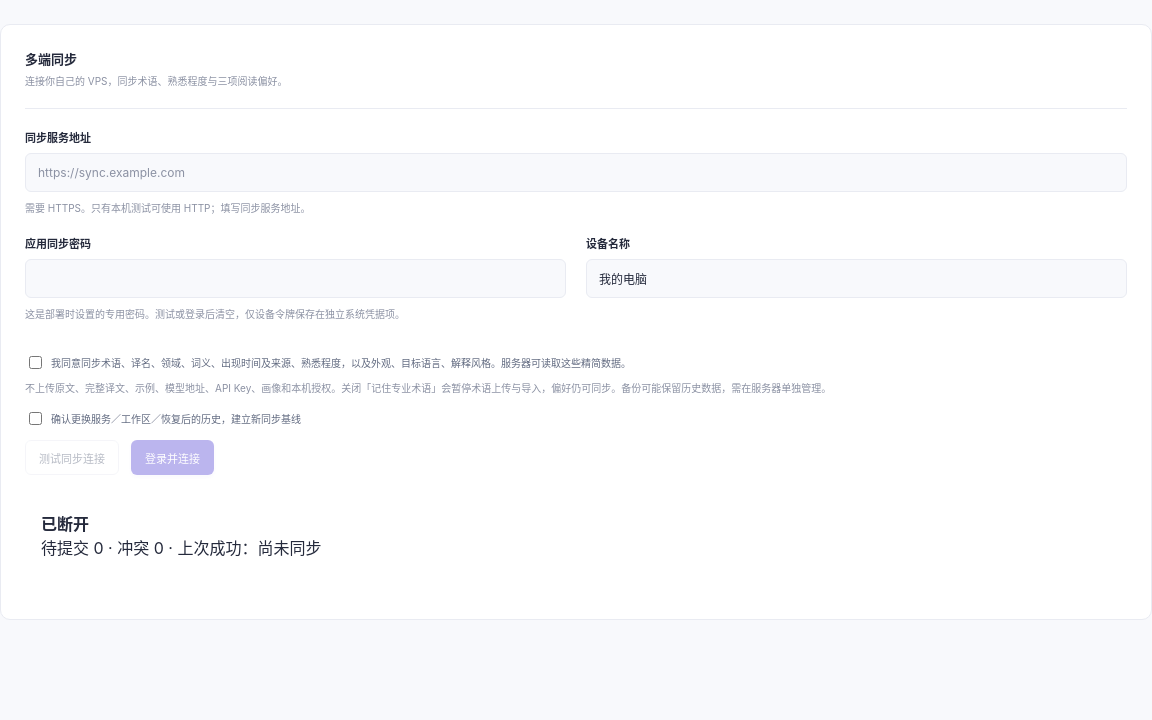
Test: preserves edited server address when another window changes the connection
Type "https://draft.example.com" into the field with id "sync-url" at [576, 172], box [25,153,1127,192]
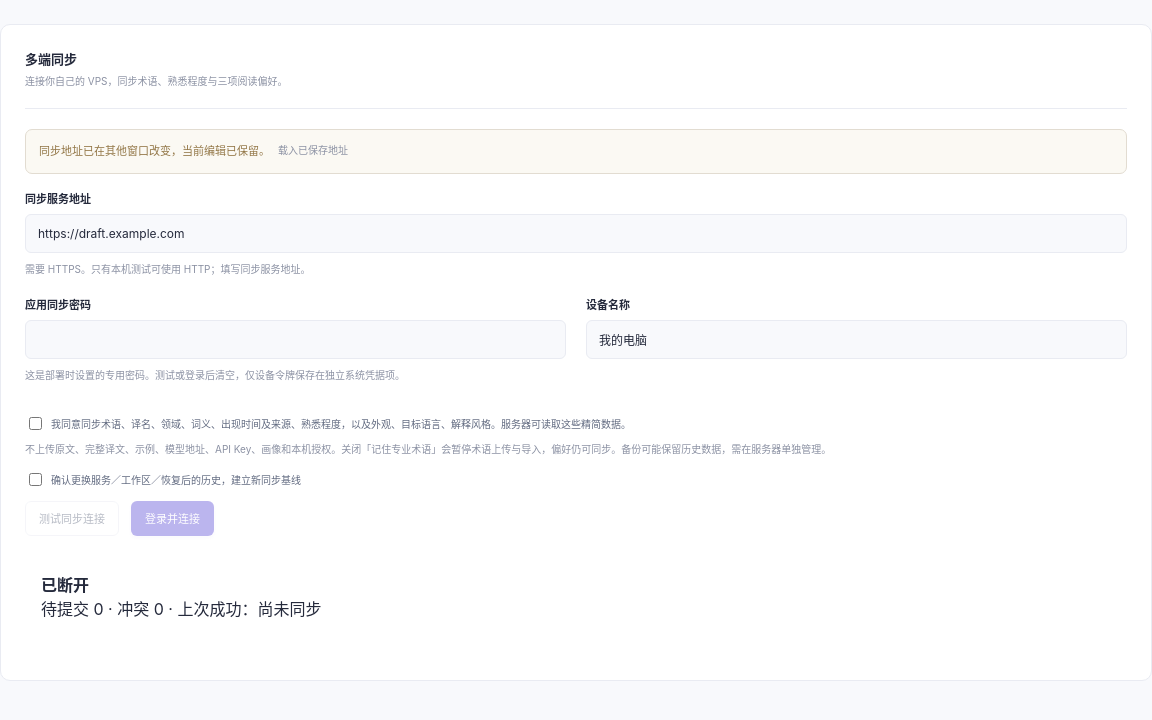
Result: the text "当前编辑已保留" is shown at [39,144,270,158]
